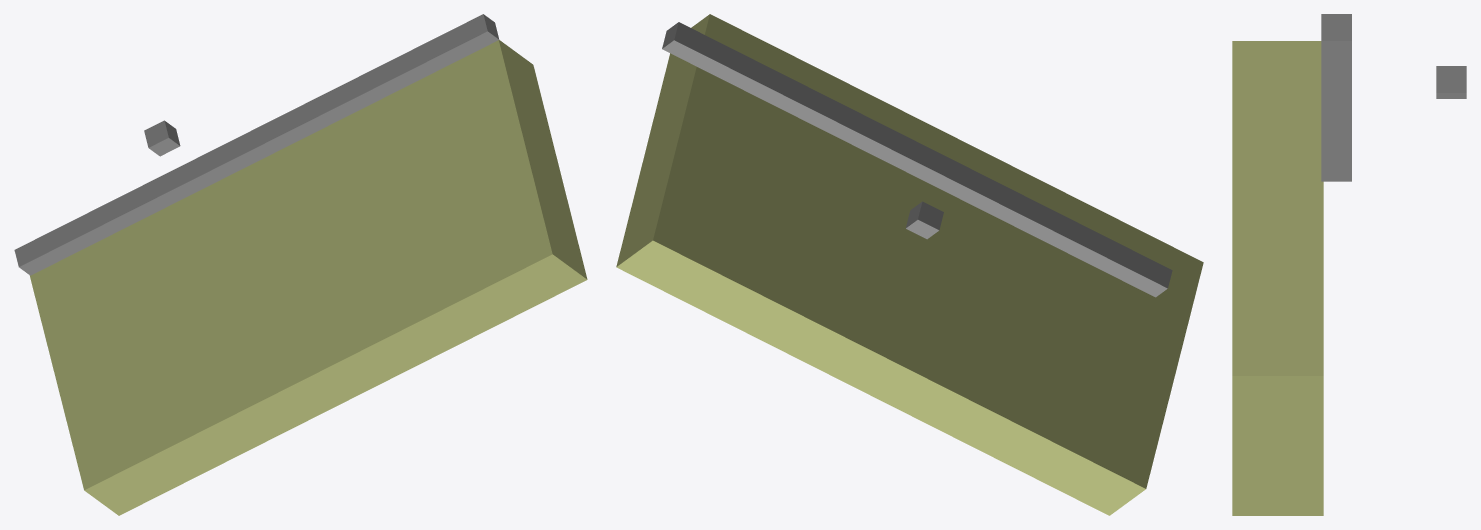
The picture shows the model from 3 angles, left to right: view 1: azimuth 30°, elevation 25°; view 2: azimuth 150°, elevation 25°; view 3: azimuth 270°, elevation 25°; orthographic projection. The views are drawn at different scales.
Parts seen in each view (by area): view 1: 0_1_3_2_1_2_2_0; view 2: 0_1_3_2_1_2_2_0; view 3: 0_1_3_2_1_2_2_0.
Boxes of the visible parts, x1,y1,x2,y2 form: 0_1_3_2_1_2_2_0: (14, 14, 587, 515); 0_1_3_2_1_2_2_0: (616, 14, 1203, 515); 0_1_3_2_1_2_2_0: (1232, 14, 1466, 515).
Size of the model in its own units: 78.57 by 52.46 by 23.05.
